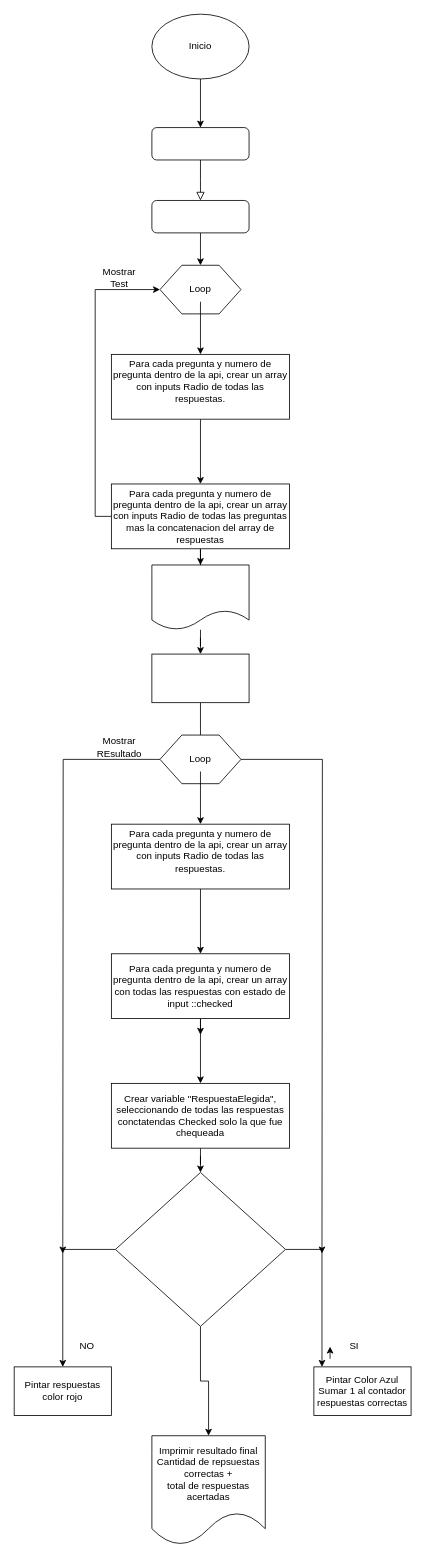
The diagram is 425 pixels wide and 1559 high, and some of its shapes have lost their labels. Here are the shapes that lost their labels. From the top down, the centre of each, then its label:
the point at 200,143: Datos API
the point at 200,216: REcorrer API
the point at 200,597: Imprimir Array de preguntas y respuestas
the point at 200,678: Inicializar array de respuestas correctas=0
the point at 200,1249: respuesta checked =respuesta correcta?
